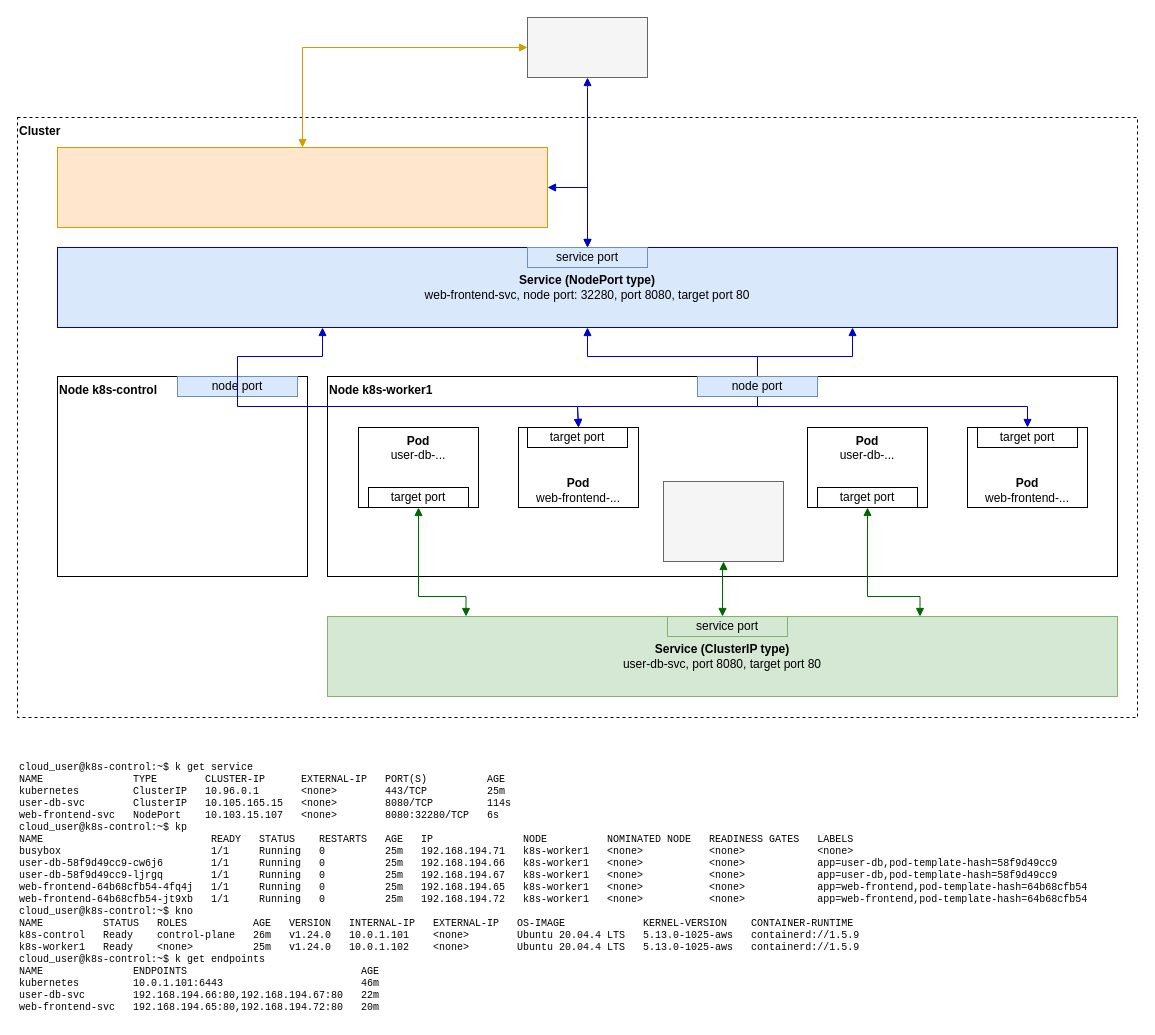
The diagram is 1155 pixels wide and 1035 high, and some of its shapes have lost their labels. The centre of each missing label's shape, as x and y in pixels:
Client of web-frontend-svc: the point at 587,47
Ingress: the point at 302,187
Pod busybox Client of user-db-svc: the point at 723,521
